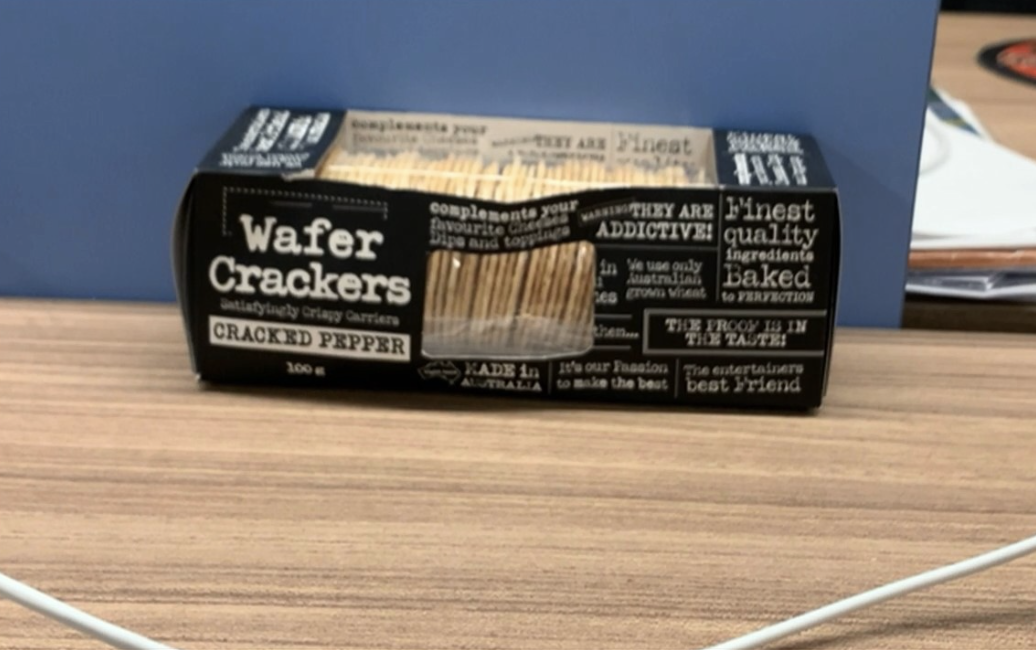crackers_150g: (201, 183, 816, 403)
